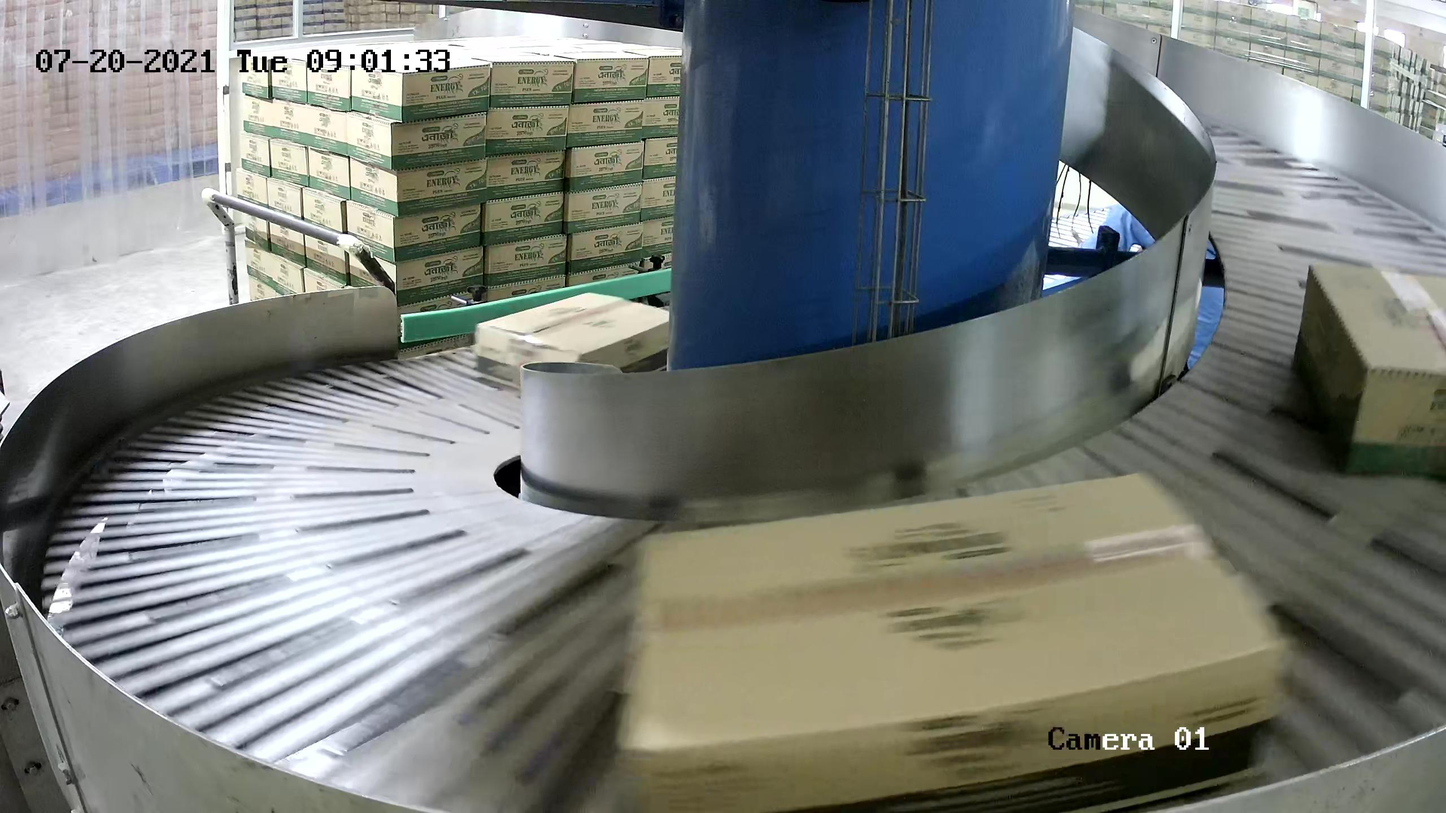Box: (608, 464, 1293, 813), (1291, 260, 1446, 479), (473, 290, 671, 396)
